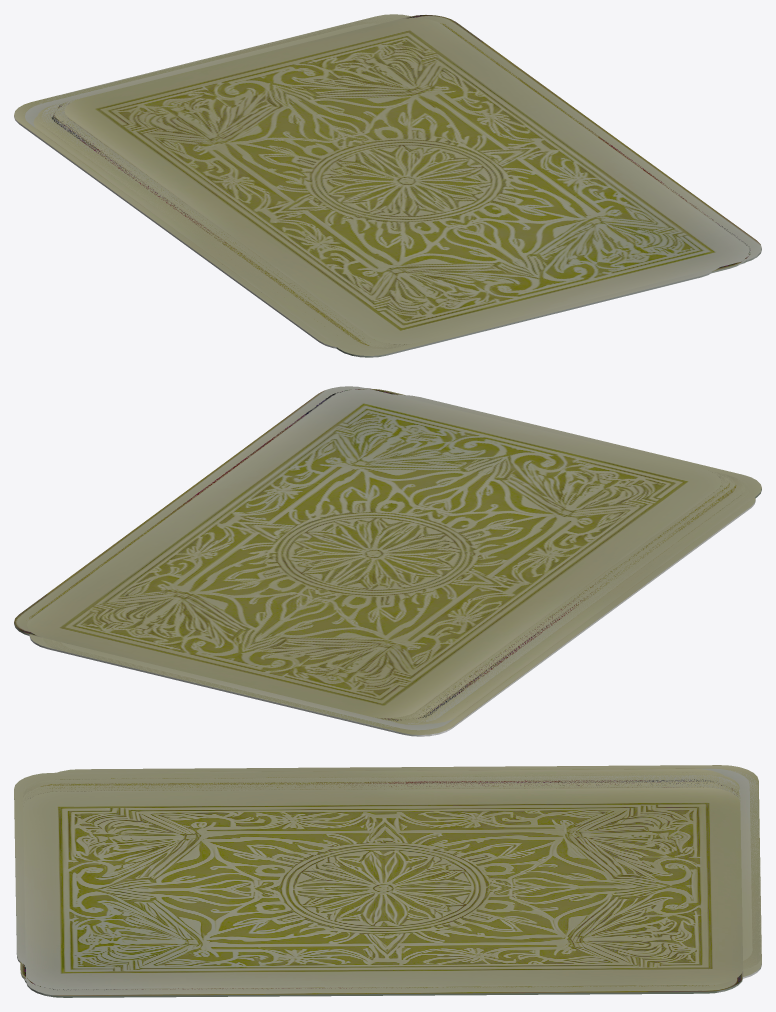
File: CardDeck.glb
3 views of the same model, one above another, from view 1: azimuth 30°, elevation 25°; view 2: azimuth 150°, elevation 25°; view 3: azimuth 270°, elevation 25° (orthographic). The views are drawn at different scales.
Parts seen in each view (by area): view 1: Diamond_8, Diamond_Queen, Diamond_5, Club_2, Diamond_King, Diamond_Jack, Diamond_4, Diamond_Ace, Spade_Queen, Diamond_9, Card.049, Club_Ace (+2 smaller); view 2: Diamond_8, Diamond_Queen, Diamond_Jack, Diamond_5, Club_2, Diamond_4, Spade_Queen, Diamond_Ace, Club_Ace, Diamond_2, Card.049, Diamond_7 (+2 smaller); view 3: Diamond_8, Diamond_Queen, Diamond_5, Diamond_Jack, Club_2, Diamond_Ace, Diamond_9, Diamond_4, Spade_Queen, Club_Ace, Diamond_King, Diamond_2 (+1 smaller).
Boxes of the visible parts, box(x1,y1,x2,y2) form: Diamond_8: box(64, 18, 749, 344); Diamond_Queen: box(33, 110, 715, 357); Diamond_5: box(398, 15, 761, 262); Club_2: box(14, 22, 376, 348); Diamond_King: box(37, 103, 411, 350); Diamond_Jack: box(42, 101, 409, 349); Diamond_4: box(51, 102, 411, 347); Diamond_Ace: box(56, 99, 415, 346); Spade_Queen: box(25, 23, 379, 128); Diamond_9: box(52, 110, 380, 347); Card.049: box(61, 14, 410, 94); Club_Ace: box(46, 17, 397, 98); Diamond_8: box(27, 389, 721, 718); Diamond_Queen: box(397, 395, 761, 723); Diamond_Jack: box(385, 471, 744, 723); Diamond_5: box(14, 386, 377, 637); Club_2: box(81, 497, 755, 736); Diamond_4: box(373, 472, 736, 721); Spade_Queen: box(61, 642, 456, 730); Diamond_Ace: box(371, 470, 731, 719); Club_Ace: box(43, 638, 401, 729); Diamond_2: box(378, 483, 744, 723); Card.049: box(29, 634, 393, 727); Diamond_7: box(29, 389, 370, 618); Diamond_8: box(23, 787, 743, 989); Diamond_Queen: box(14, 768, 731, 964); Diamond_5: box(26, 970, 743, 997); Diamond_Jack: box(23, 775, 740, 799); Club_2: box(57, 765, 758, 957); Diamond_Ace: box(23, 782, 740, 804); Diamond_9: box(23, 780, 724, 806); Diamond_4: box(23, 779, 739, 805); Spade_Queen: box(695, 768, 752, 960); Club_Ace: box(743, 783, 761, 969); Diamond_King: box(24, 772, 739, 797); Diamond_2: box(28, 775, 738, 797).
Size of the model in its own units: 0.0672 by 0.000619 by 0.0927.
4 materials, 4 textured.
